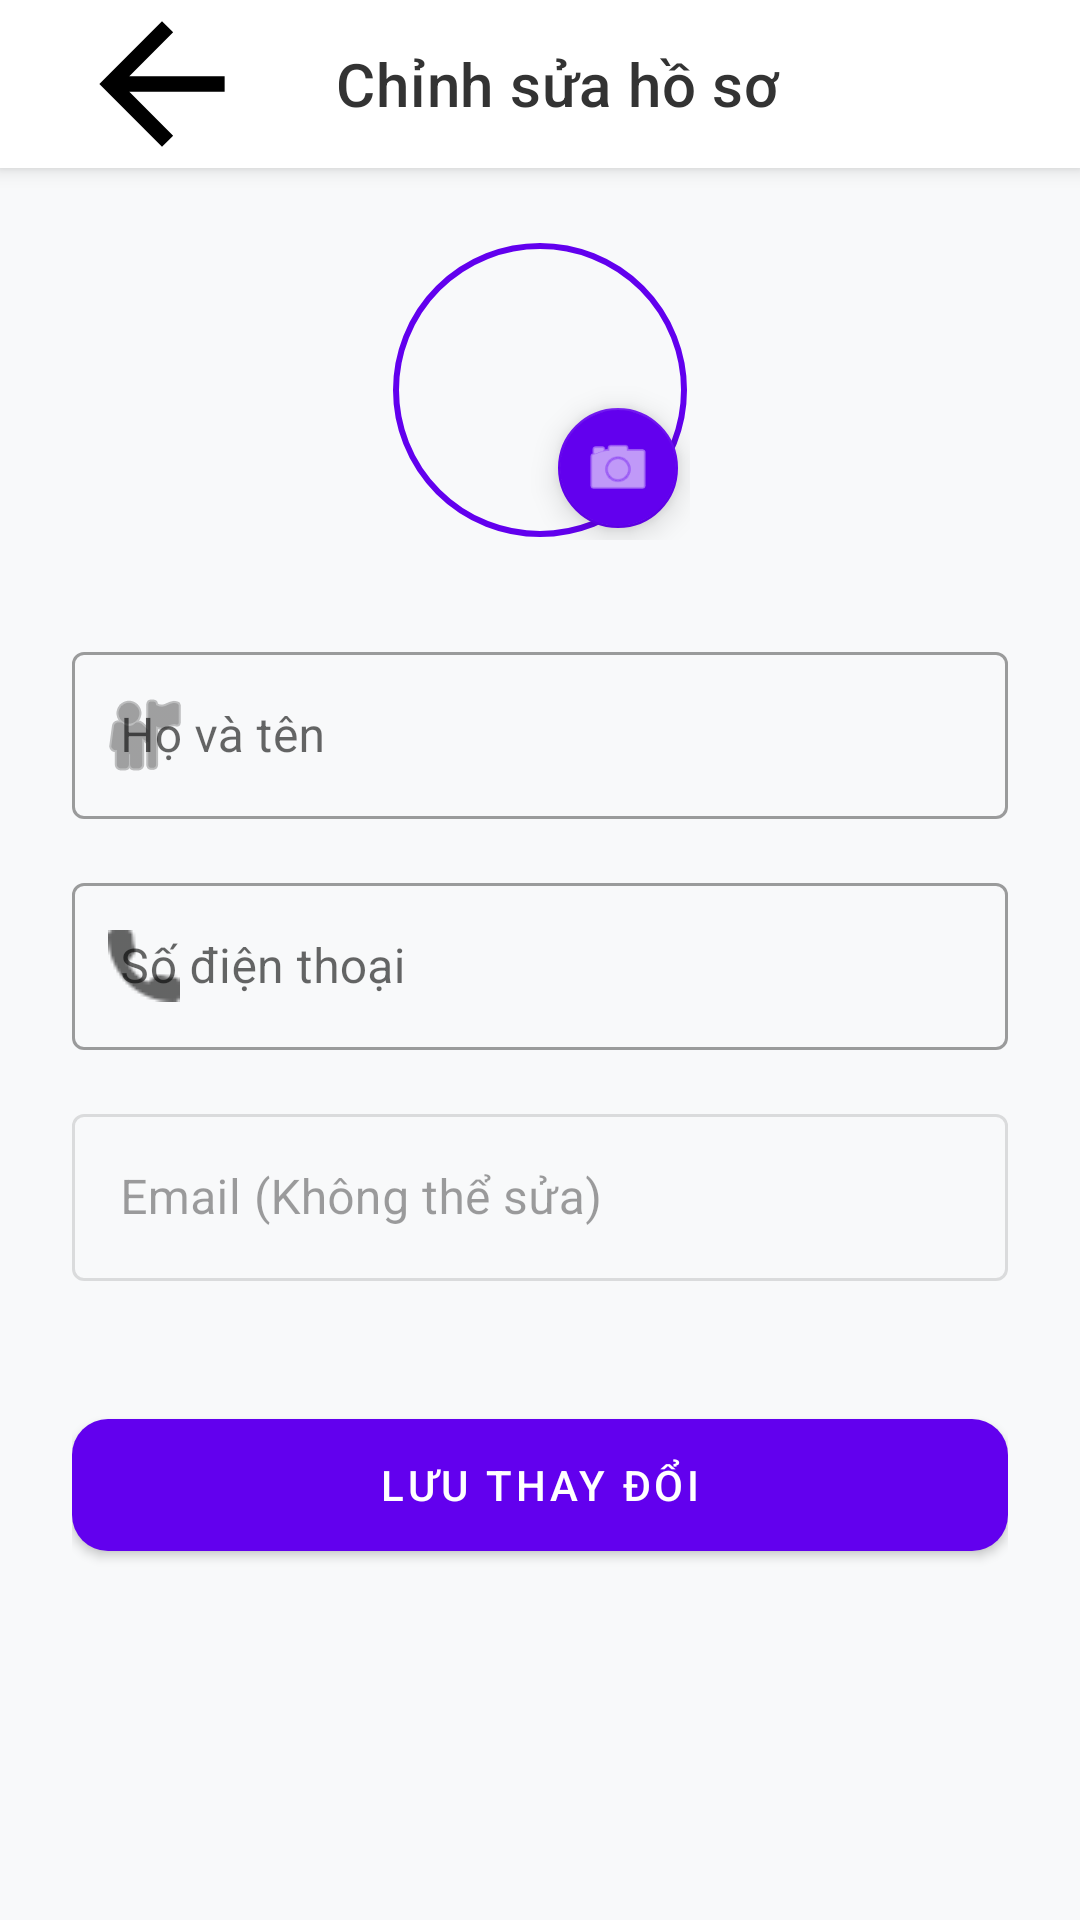

Where icons sit on this 1080px×1920px app screen, as (x1, y1, x2, y2):
camera: (546, 396, 687, 537)
